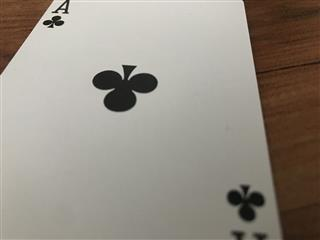AceOfClubs: (1, 1, 282, 240)
